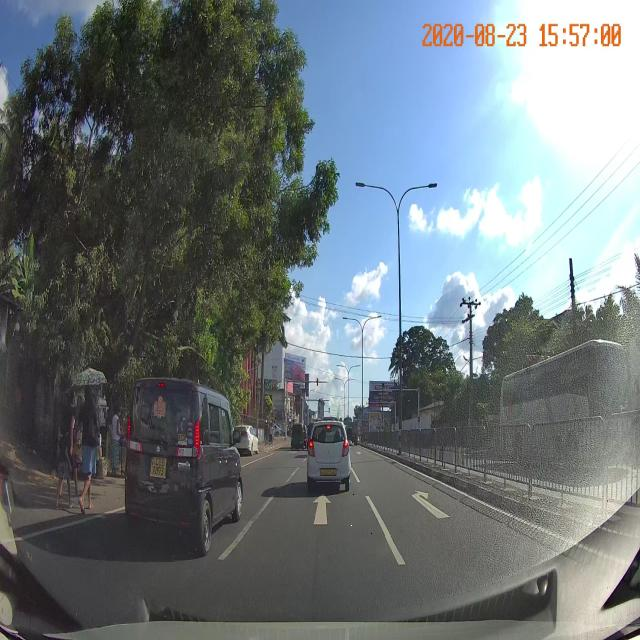forward: (238, 487, 391, 536)
